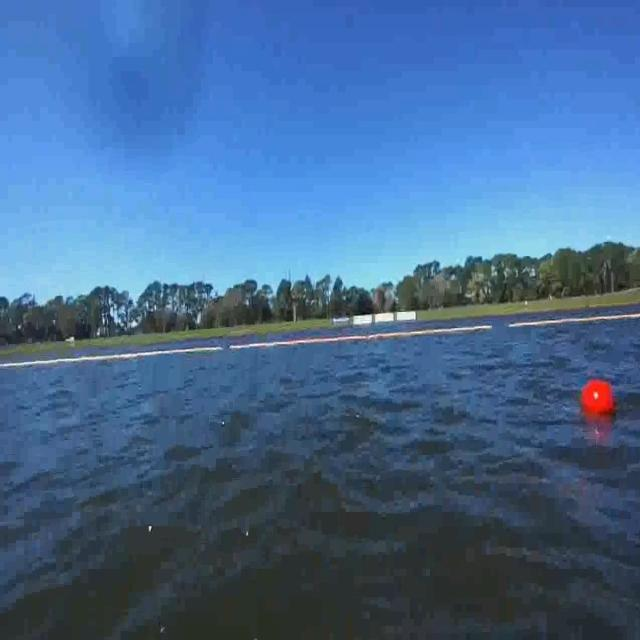red-buoy: (581, 381, 615, 417)
